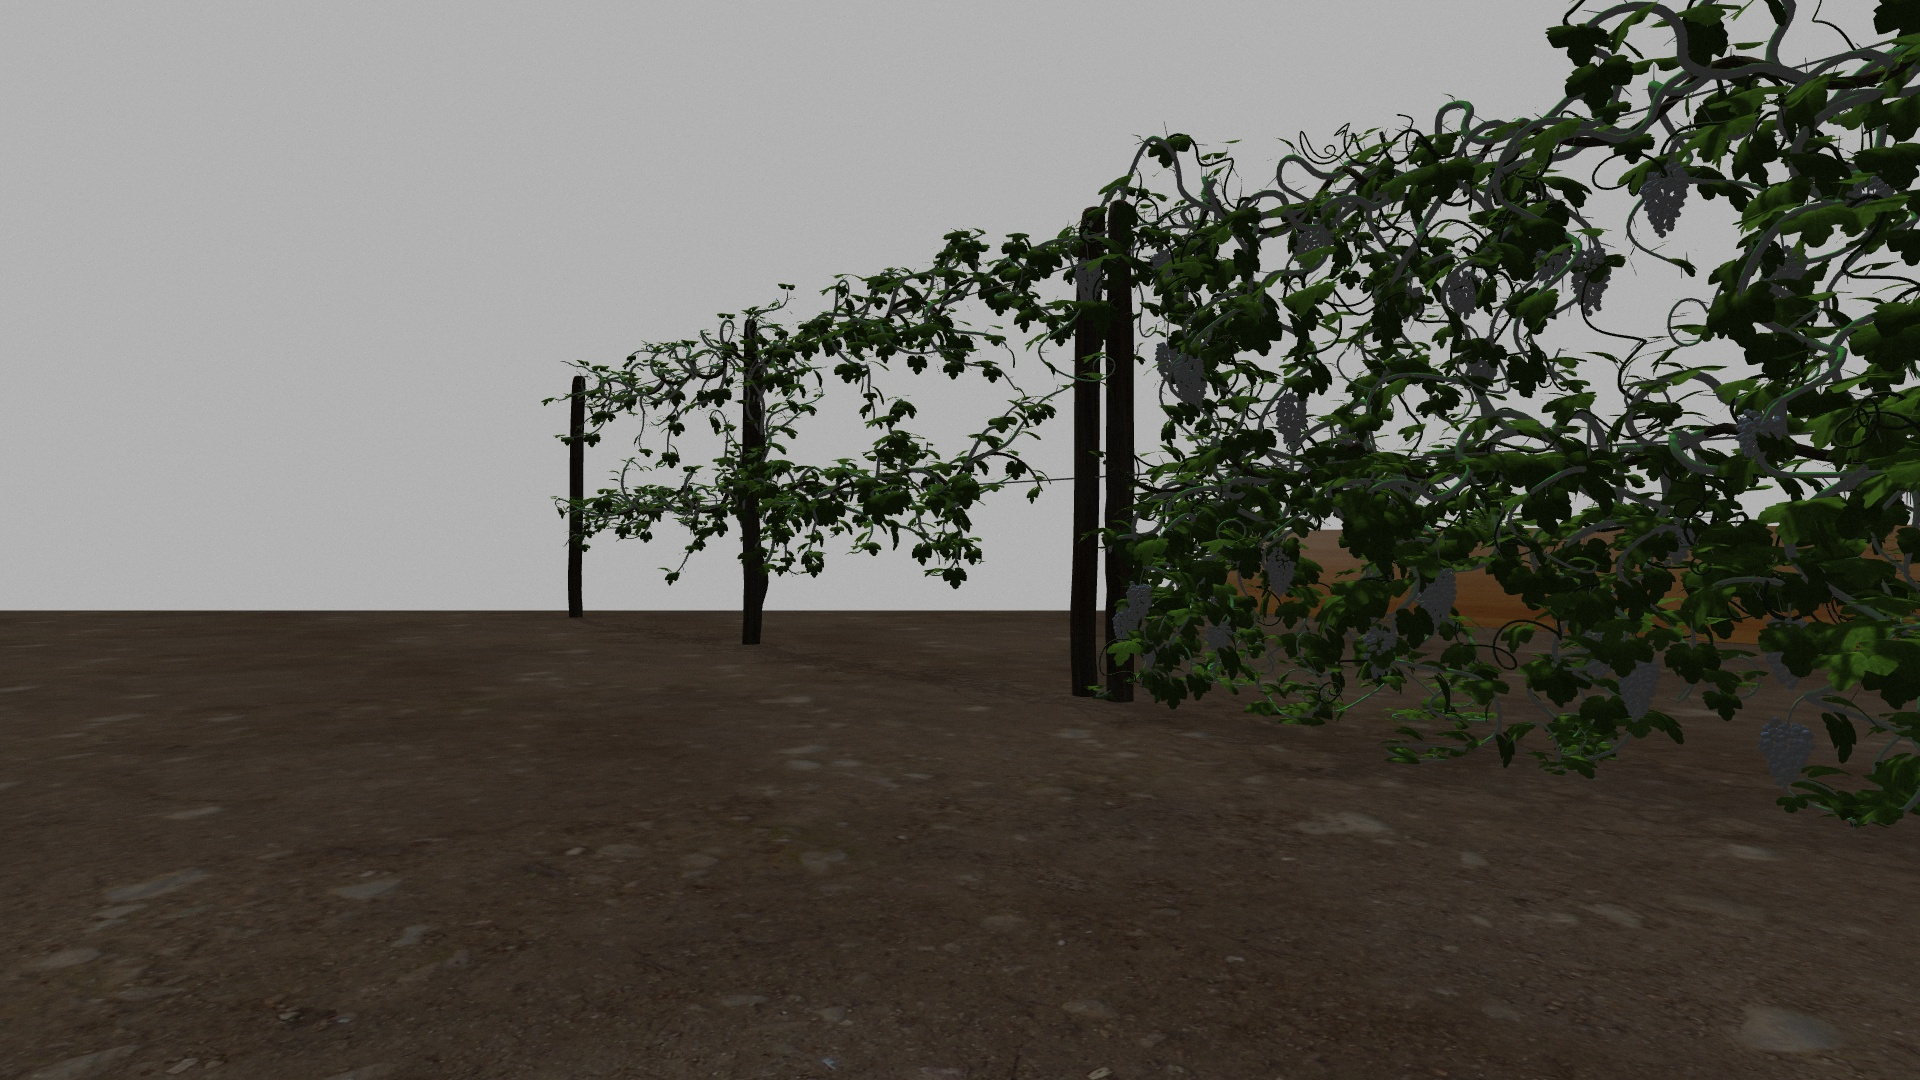grape: (1759, 715, 1818, 790), (1640, 164, 1689, 237), (1615, 653, 1662, 727), (1733, 407, 1787, 459), (1416, 567, 1458, 632), (1571, 247, 1610, 315), (1365, 622, 1399, 679), (1443, 274, 1484, 320), (1275, 392, 1309, 446), (1176, 355, 1211, 407), (1266, 549, 1298, 597), (1294, 223, 1333, 261), (1072, 262, 1104, 301), (1153, 343, 1182, 378), (1125, 583, 1154, 618), (1112, 609, 1141, 644), (1205, 622, 1232, 651)
